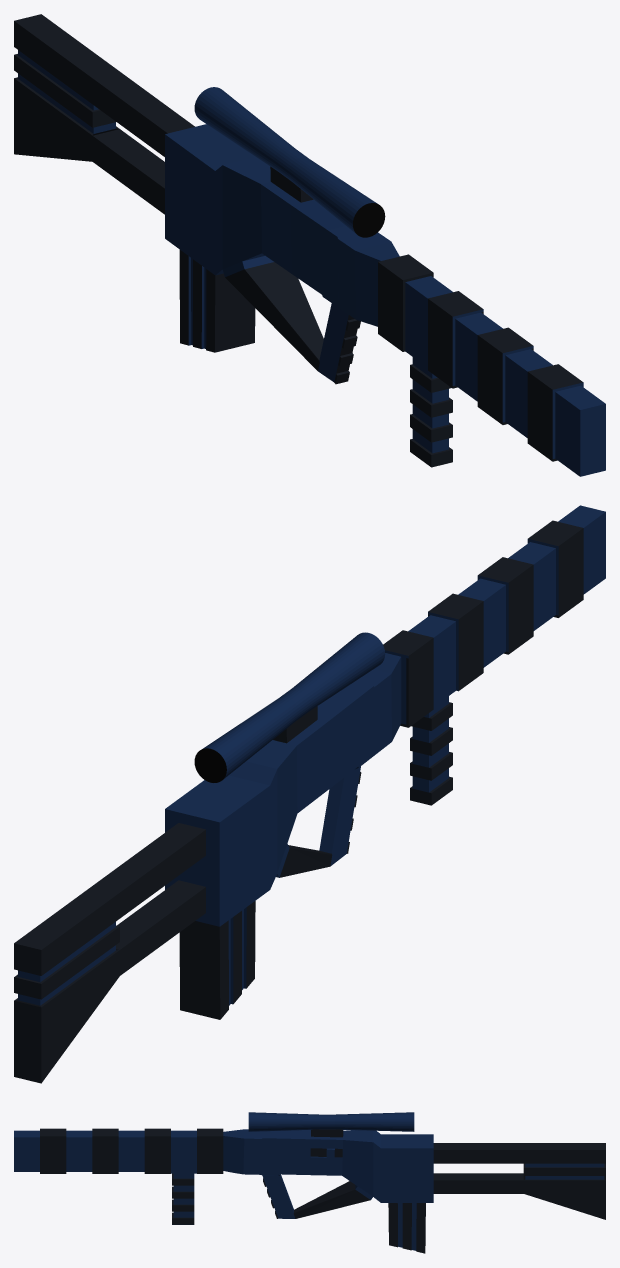
The model's file is rifle.glb.
3 renders of one model, top to bottom at view 1: azimuth 30°, elevation 25°; view 2: azimuth 150°, elevation 25°; view 3: azimuth 270°, elevation 25°, orthographic. The views are drawn at different scales.
Parts seen in each view (by area): view 1: Cube; view 2: Cube; view 3: Cube.
Part boxes in pixels (x1,y1,x2,y2): Cube: [14, 14, 605, 476]; Cube: [14, 505, 605, 1083]; Cube: [14, 1112, 605, 1253].
Size of the model in its own units: 1.1 by 4.95 by 19.63.
